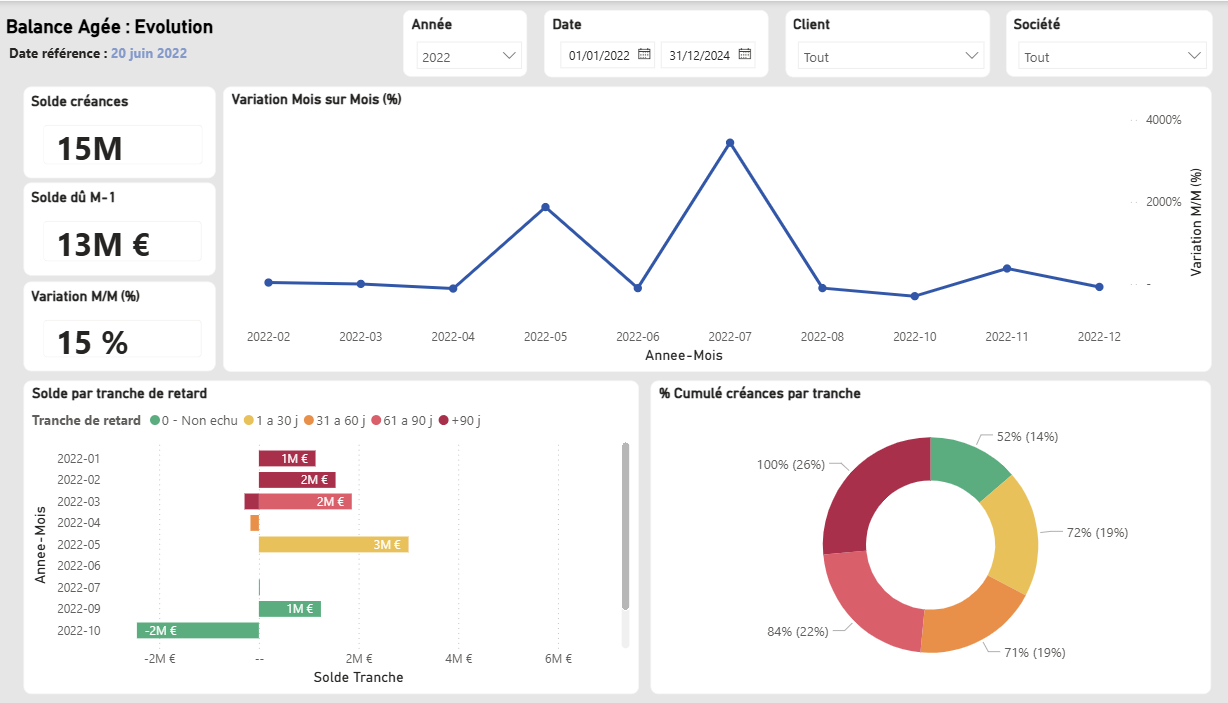

What the dashboard file says about the page in this screenshot:
{"tool":"powerbi","page":{"name":"Évolution temporelle","canvas":[1280,720],"ordinal":2},"visuals":[{"type":"slicer","title":"Date","fields":{"Values":["Dim_Date.Date"]},"box":[565.3,8.4,226.9,67.9],"z":0,"group":"g1"},{"type":"textbox","box":[17.8,9.6,300,47.9],"z":0},{"type":"group","id":"g1","title":"Groupe 1","box":[423.4,8.4,816.9,69.5],"z":1000},{"type":"slicer","title":"Client","fields":{"Values":["Dim_Tiers.Tiers Libellé"]},"box":[808.9,8.4,206.4,67.9],"z":1000,"group":"g1"},{"type":"slicer","title":"Société","fields":{"Values":["Dim_Societes_Perimetre.Libellé Société"]},"box":[1031.9,8.4,208.5,67.6],"z":2000,"group":"g1"},{"type":"cardVisual","title":"    Solde créances","fields":{"Data":["Fact_BalanceAgee.Total Solde Dû"]},"box":[40.8,86.5,194.2,92.9],"z":2000},{"type":"slicer","title":"Année","fields":{"Values":["Dim_Date.Annee"]},"box":[423.4,8.4,125.4,67.6],"z":3000,"group":"g1"},{"type":"cardVisual","title":"    Solde dû M-1","fields":{"Data":["Fact_BalanceAgee.Solde Dû M-1"]},"box":[40.6,182.8,193.8,93.8],"z":3000},{"type":"cardVisual","title":"Variation M/M (%)","fields":{"Data":["Fact_BalanceAgee.Variation M/M (%)"]},"box":[40.6,282.8,193.8,90.6],"z":4000},{"type":"lineChart","title":"Variation Mois sur Mois (%)","fields":{"Y2":["Fact_BalanceAgee.Variation Mensuelle"],"Category":["Dim_Date.Annee-Mois"]},"box":[242.1,86.2,998.3,288.1],"z":5000},{"type":"barChart","title":"Solde par tranche de retard","fields":{"Category":["Dim_Date.Annee-Mois"],"Y":["Fact_BalanceAgee.Solde Tranche"],"Series":["Fact_BalanceAgee.Tranche de retard"]},"box":[41,383.3,621.2,316.7],"z":6000},{"type":"donutChart","title":"% Cumulé créances par tranche","fields":{"Y":["Fact_BalanceAgee.% Cumulé Tranche"],"Series":["Fact_BalanceAgee.Ordre Tranche"]},"box":[674.6,383.1,566.1,316.9],"z":7000},{"type":"textbox","box":[21.1,38,221.1,33.8],"z":8000}]}

Visuals, with their boxes in screenshot pixels (x1, y1, x2, y2), scaled from the page's 1280x720 canvas onto the 1228x703 screenshot:
"Date" slicer: (left=542, top=8, right=760, bottom=74)
textbox: (left=17, top=9, right=305, bottom=56)
"Groupe 1" group: (left=406, top=8, right=1190, bottom=76)
"Client" slicer: (left=776, top=8, right=974, bottom=74)
"Société" slicer: (left=990, top=8, right=1190, bottom=74)
"    Solde créances" cardVisual: (left=39, top=84, right=225, bottom=175)
"Année" slicer: (left=406, top=8, right=527, bottom=74)
"    Solde dû M-1" cardVisual: (left=39, top=178, right=225, bottom=270)
"Variation M/M (%)" cardVisual: (left=39, top=276, right=225, bottom=365)
"Variation Mois sur Mois (%)" lineChart: (left=232, top=84, right=1190, bottom=365)
"Solde par tranche de retard" barChart: (left=39, top=374, right=635, bottom=683)
"% Cumulé créances par tranche" donutChart: (left=647, top=374, right=1190, bottom=683)
textbox: (left=20, top=37, right=232, bottom=70)
